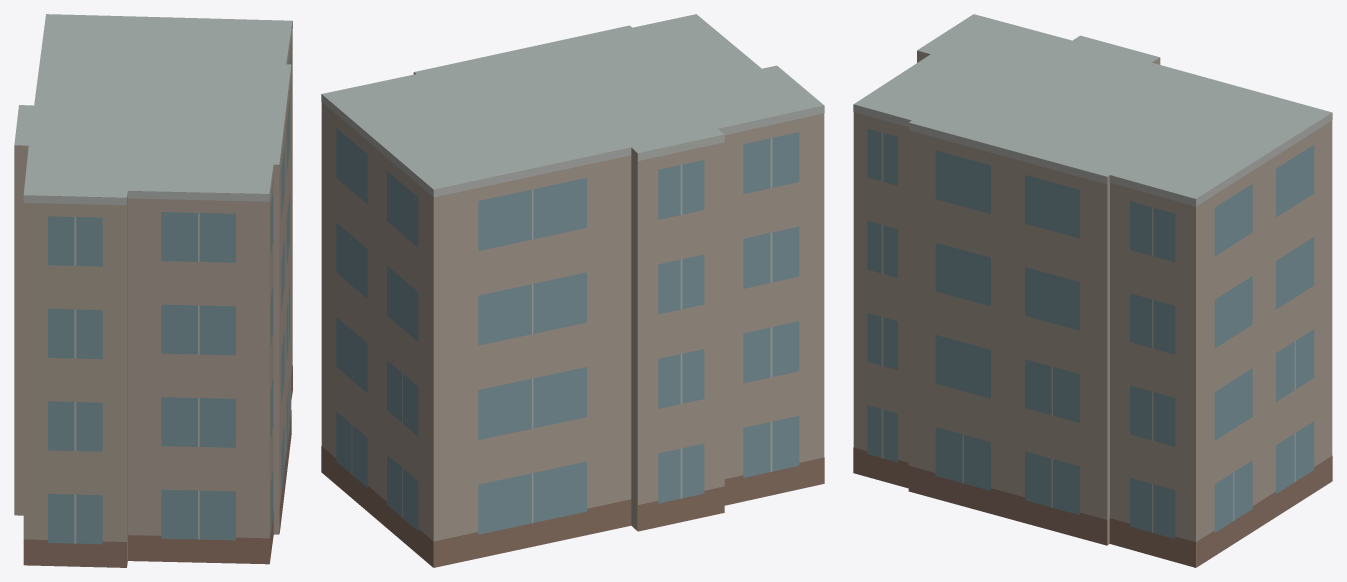
Rendered from survey-upis-32655007.glb.
3 views of the same model, side by side, from view 1: azimuth 30°, elevation 25°; view 2: azimuth 150°, elevation 25°; view 3: azimuth 270°, elevation 25° (orthographic). The views are drawn at different scales.
Parts seen in each view (by area): view 1: survey-upis-32655007.tmp; view 2: survey-upis-32655007.tmp; view 3: survey-upis-32655007.tmp.
Boxes of the visible parts, x1,y1,x2,y2 form: survey-upis-32655007.tmp: (14,14,292,567); survey-upis-32655007.tmp: (321,14,824,567); survey-upis-32655007.tmp: (853,14,1332,567).
Bounding box in the file's own units: 12.65 × 11.75 × 13.84.
